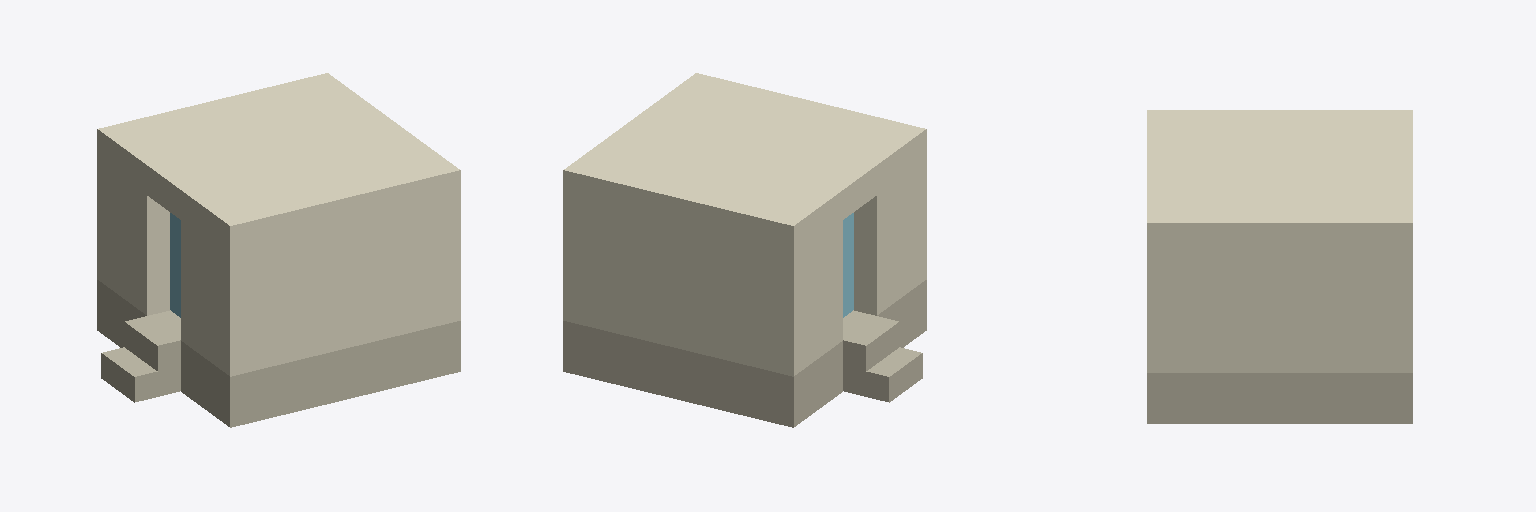
The model's file is basement1.obj.
The picture shows the model from 3 angles: view 1: azimuth 30°, elevation 25°; view 2: azimuth 150°, elevation 25°; view 3: azimuth 270°, elevation 25°; orthographic projection.
Parts seen in each view (by area): view 1: basement1; view 2: basement1; view 3: basement1.
Boxes of the visible parts, <box> form: basement1: <box>97,73,460,427</box>; basement1: <box>563,73,926,427</box>; basement1: <box>1147,110,1412,423</box>.
Size of the model in its own units: 1.2 by 0.8375 by 1.